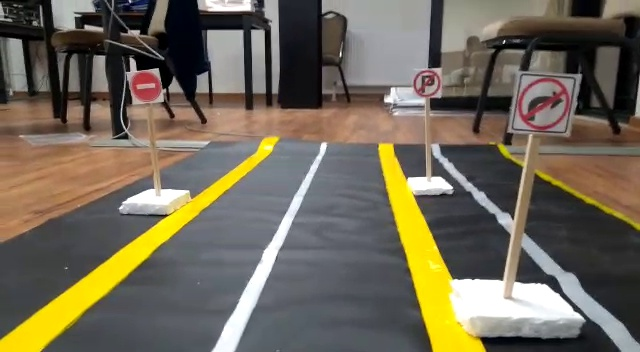girisi_olmayan_yol: (128, 68, 161, 104)
park_yapilmaz: (413, 70, 445, 100)
saga_donulmez: (517, 73, 570, 132)
